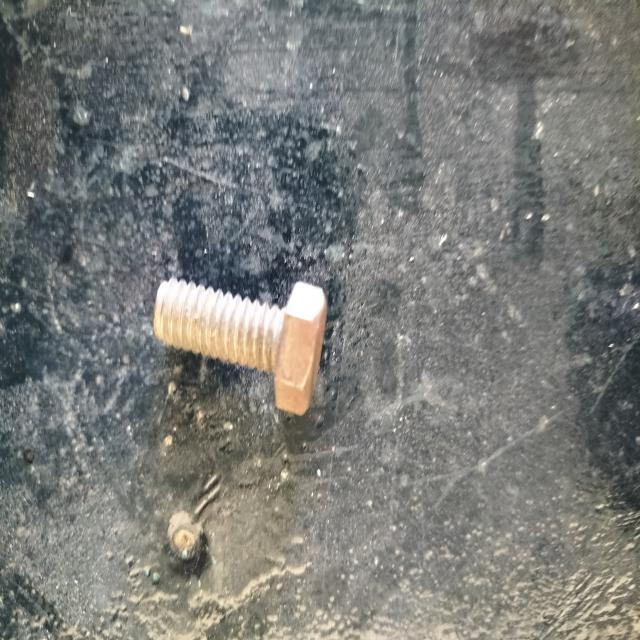bolt: (153, 278, 327, 414)
